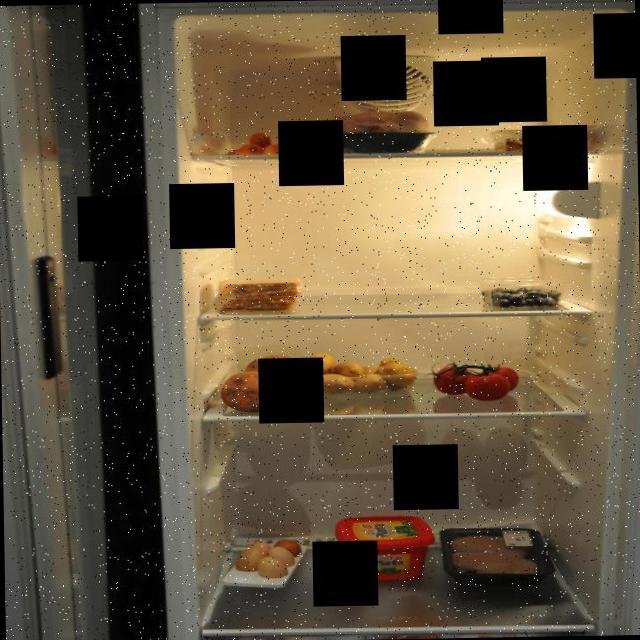Carne pollo: (439, 528, 550, 596), (320, 105, 436, 157)
Gambas/Langostinos: (496, 130, 596, 154)
Huevos: (234, 532, 304, 580)
Mantequilla: (335, 513, 436, 583)
Patata: (301, 352, 418, 396)
Tomate: (427, 358, 520, 403)
Zanahoria: (225, 127, 328, 158)
